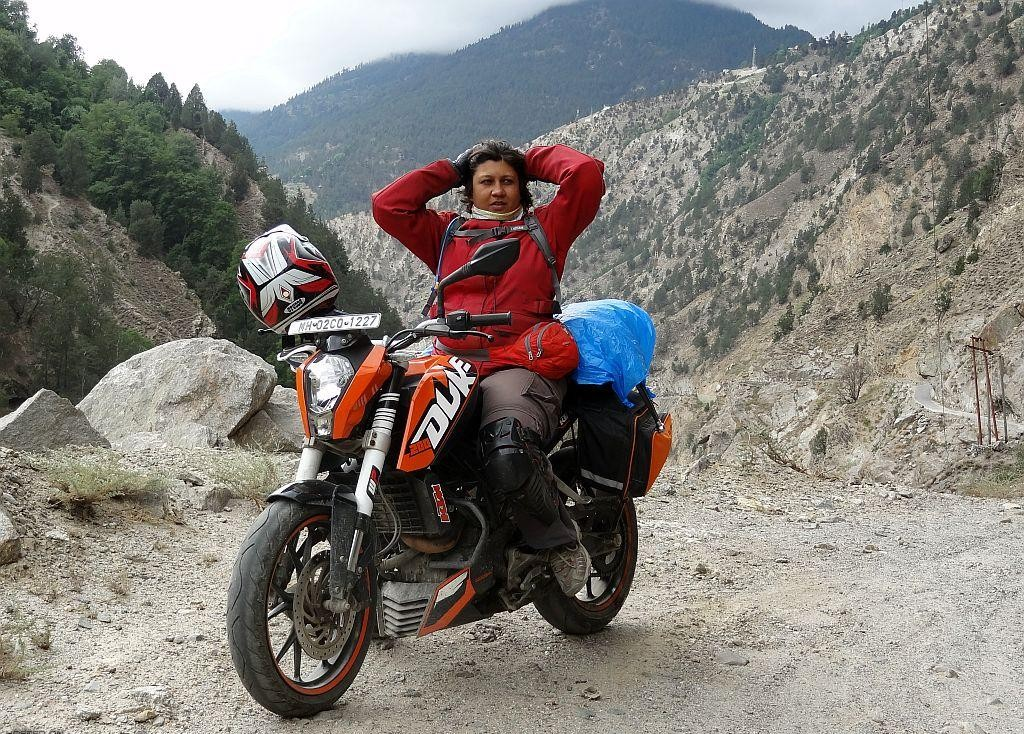with_helmet: (226, 224, 345, 330)
